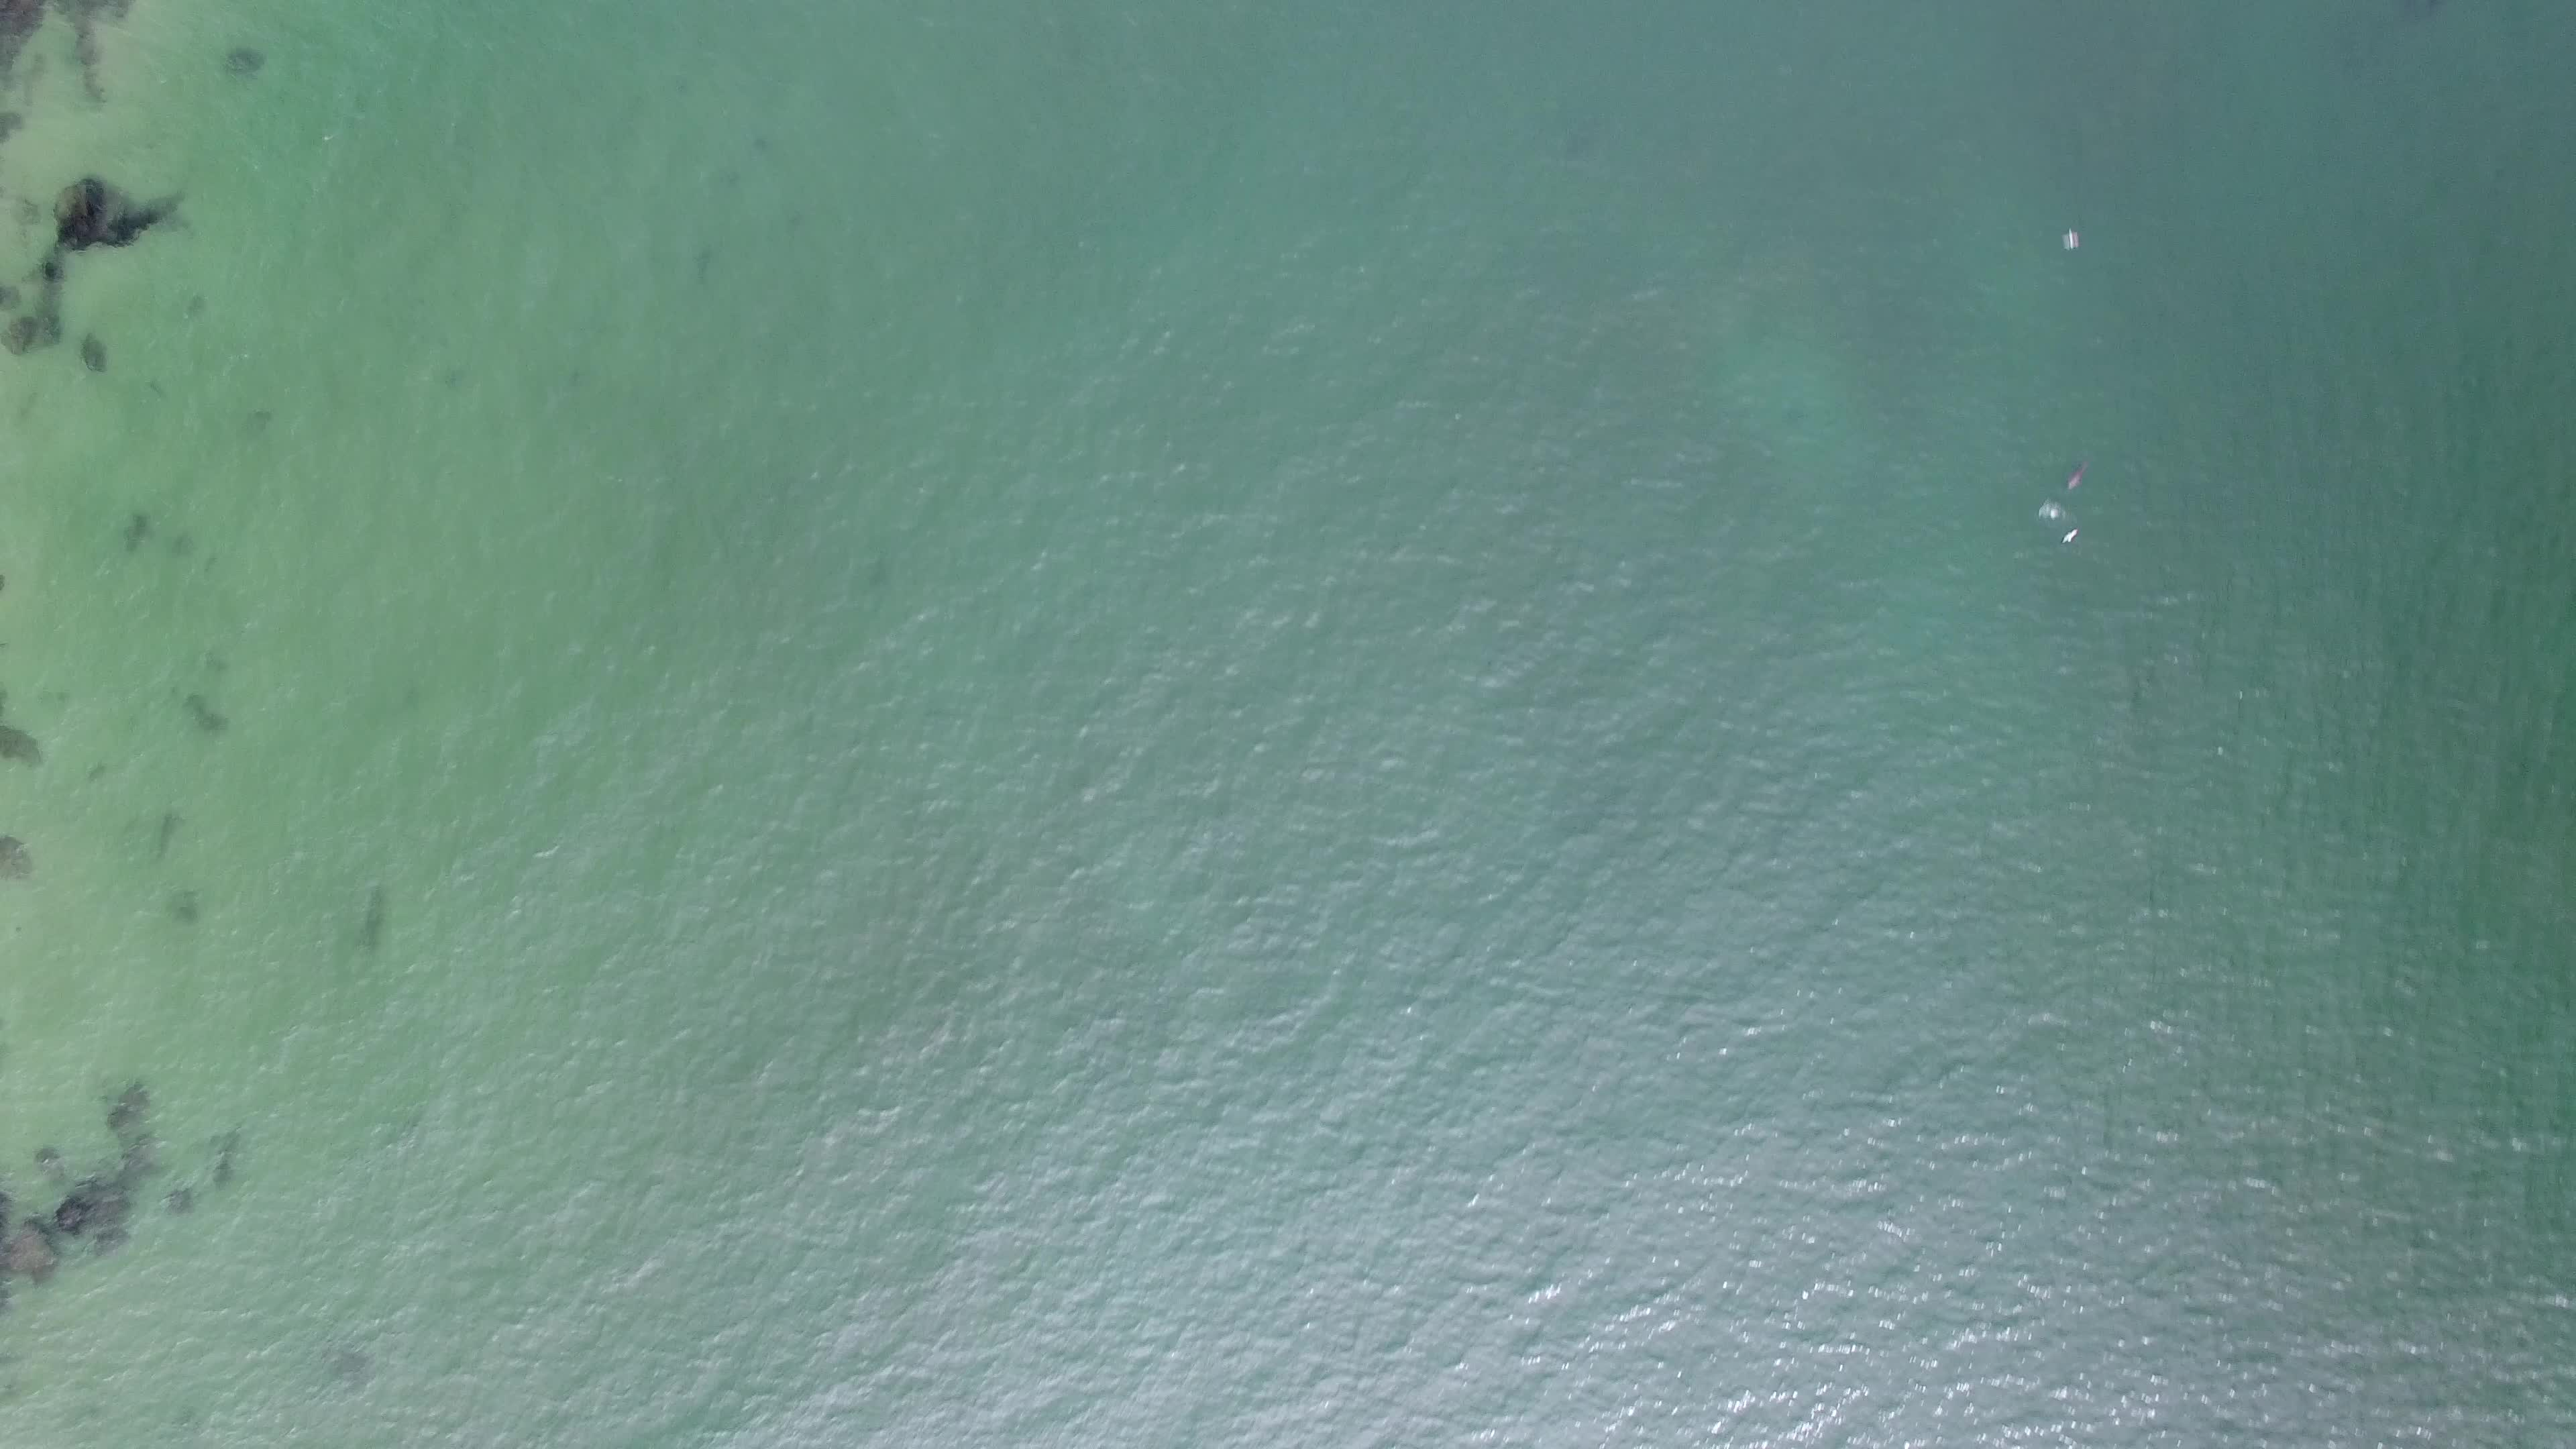dolphin: (2054, 453, 2097, 492)
